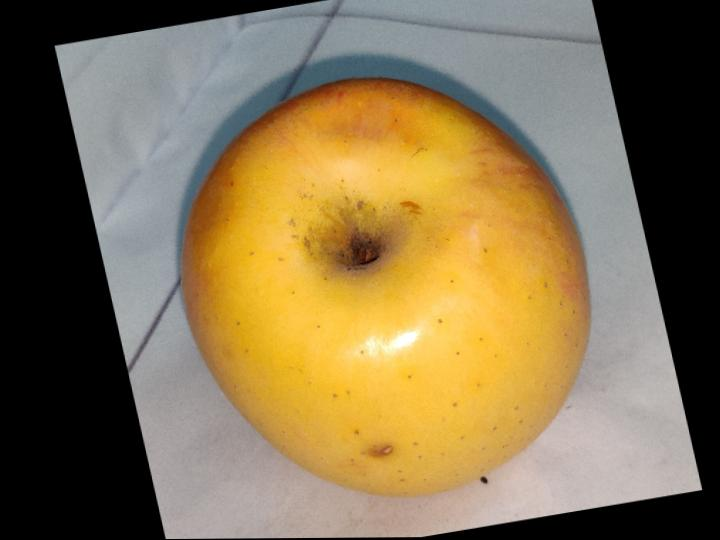apple: (181, 77, 589, 495)
surface_damage: (369, 444, 392, 455)
